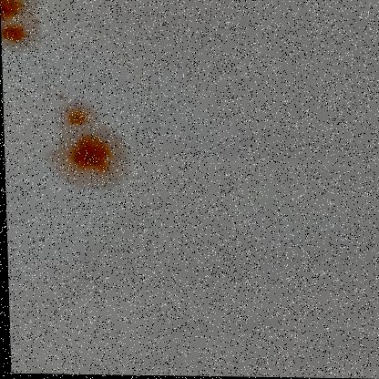kimchi: (57, 107, 113, 184), (0, 1, 32, 45)
